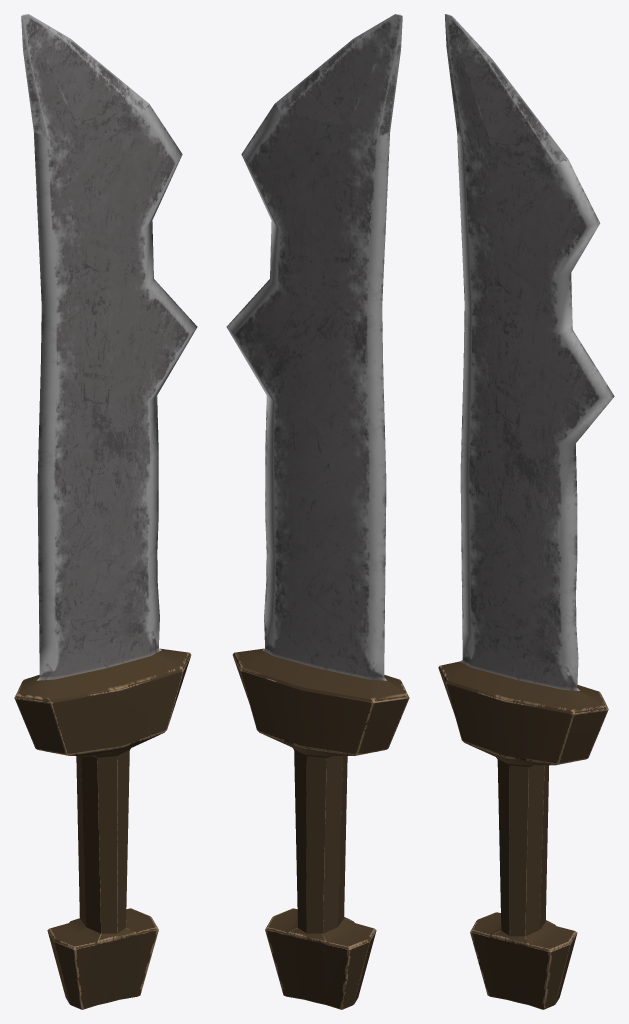
File: ITM_OFFENSIVE_DAGGER.fbx
3 renders of one model, left to right at view 1: azimuth 30°, elevation 25°; view 2: azimuth 150°, elevation 25°; view 3: azimuth 330°, elevation 25°, orthographic. The views are drawn at different scales.
Visible parts, largest first — view 1: itm_offensive_dagger; view 2: itm_offensive_dagger; view 3: itm_offensive_dagger.
Part boxes in pixels (box(x1,y1,x2,y2)): itm_offensive_dagger: box(14, 14, 197, 1009); itm_offensive_dagger: box(226, 14, 409, 1009); itm_offensive_dagger: box(438, 14, 614, 1009).
Bounding box in the file's own units: 0.1819 × 0.9514 × 0.0662.
